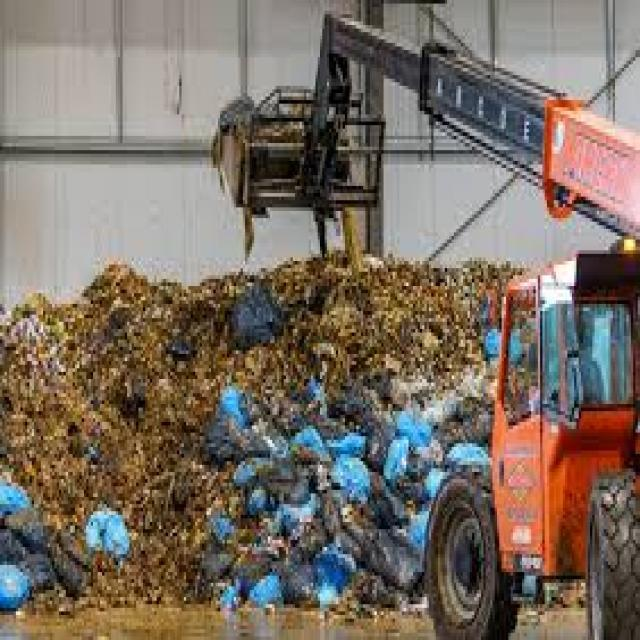Wet: (9, 289, 418, 628), (100, 274, 484, 448)
